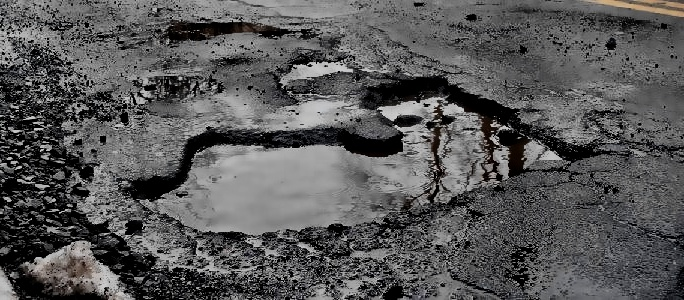pothole: (130, 72, 596, 236), (168, 17, 299, 43), (277, 55, 354, 87)
